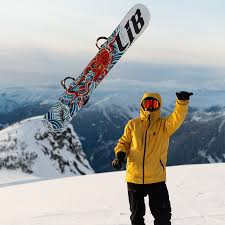snowboard: (40, 3, 152, 135)
